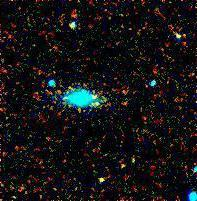star: (100, 149, 130, 179)
